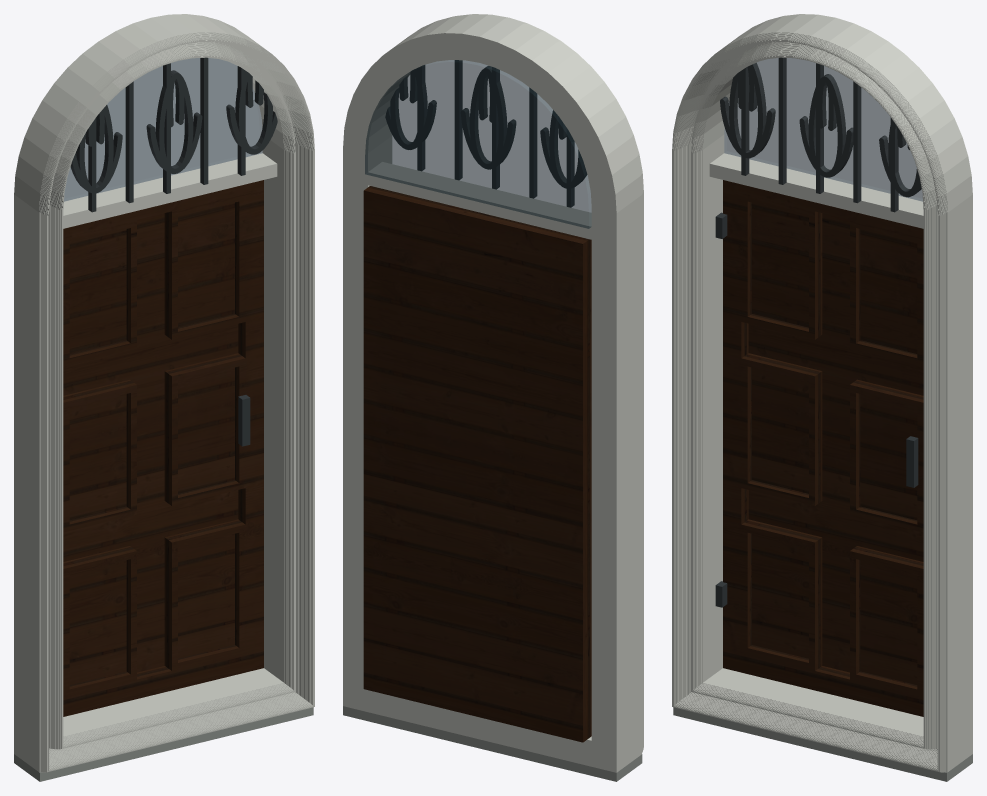
Rendered from barroco_arch_puerta.glb.
3 renders of one model, left to right at view 1: azimuth 30°, elevation 25°; view 2: azimuth 150°, elevation 25°; view 3: azimuth 330°, elevation 25°, orthographic.
Visible parts, largest first — view 1: door_panel_back#0001, door_reveal#0001, door_leaf_frame#0001, door_moulding#0096, transom_grille#0001, transom_glass#0001, door_moulding#0001, door_coffer#0005, door_coffer#0004, door_coffer#0006, door_coffer#0002, door_coffer#0001 (+84 smaller); view 2: door_panel_back#0001, door_reveal#0001, door_leaf_frame#0001, transom_glass#0001, door_moulding#0096, transom_grille#0001, transom_rail#0001, door_threshold#0001, door_moulding#0095, door_moulding#0093, door_moulding#0094, door_moulding#0092 (+3 smaller); view 3: door_panel_back#0001, door_reveal#0001, door_leaf_frame#0001, door_moulding#0096, transom_grille#0001, transom_glass#0001, door_moulding#0001, door_coffer#0002, door_coffer#0001, door_coffer#0003, door_coffer#0004, door_coffer#0006 (+84 smaller).
Boxes of the visible parts, bbox=[...] form: door_panel_back#0001: bbox=[63, 213, 238, 672]; door_reveal#0001: bbox=[14, 14, 276, 761]; door_leaf_frame#0001: bbox=[63, 180, 263, 716]; door_moulding#0096: bbox=[25, 22, 284, 772]; transom_grille#0001: bbox=[70, 57, 277, 212]; transom_glass#0001: bbox=[64, 58, 262, 201]; door_moulding#0001: bbox=[63, 64, 284, 736]; door_coffer#0005: bbox=[164, 353, 240, 502]; door_coffer#0004: bbox=[164, 519, 240, 667]; door_coffer#0006: bbox=[164, 202, 234, 336]; door_coffer#0002: bbox=[63, 379, 132, 519]; door_coffer#0001: bbox=[63, 546, 132, 684]; door_panel_back#0001: bbox=[382, 214, 564, 718]; door_reveal#0001: bbox=[343, 23, 630, 772]; door_leaf_frame#0001: bbox=[363, 186, 591, 742]; transom_glass#0001: bbox=[365, 60, 591, 228]; door_moulding#0096: bbox=[397, 14, 641, 764]; transom_grille#0001: bbox=[385, 60, 586, 207]; transom_rail#0001: bbox=[368, 162, 591, 239]; door_threshold#0001: bbox=[343, 706, 642, 781]; door_moulding#0095: bbox=[453, 14, 641, 753]; door_moulding#0093: bbox=[455, 14, 642, 751]; door_moulding#0094: bbox=[476, 14, 642, 752]; door_moulding#0092: bbox=[476, 14, 642, 751]; door_panel_back#0001: bbox=[748, 213, 923, 672]; door_reveal#0001: bbox=[710, 14, 972, 763]; door_leaf_frame#0001: bbox=[723, 180, 923, 716]; door_moulding#0096: bbox=[702, 22, 961, 772]; transom_grille#0001: bbox=[720, 57, 921, 212]; transom_glass#0001: bbox=[724, 58, 922, 201]; door_moulding#0001: bbox=[702, 64, 923, 736]; door_coffer#0002: bbox=[746, 353, 822, 502]; door_coffer#0001: bbox=[746, 519, 822, 667]; door_coffer#0003: bbox=[752, 202, 822, 336]; door_coffer#0004: bbox=[854, 546, 923, 684]; door_coffer#0006: bbox=[860, 229, 917, 353].
Bounding box in the file's own units: 1.1 × 2.73 × 0.2577.
Materials: 5 (1 with a texture image).
